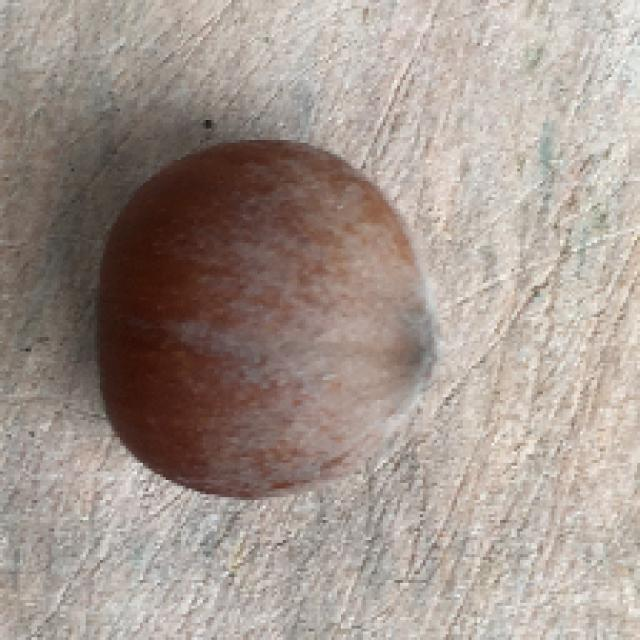QualityHazelnut: (96, 139, 442, 508)
